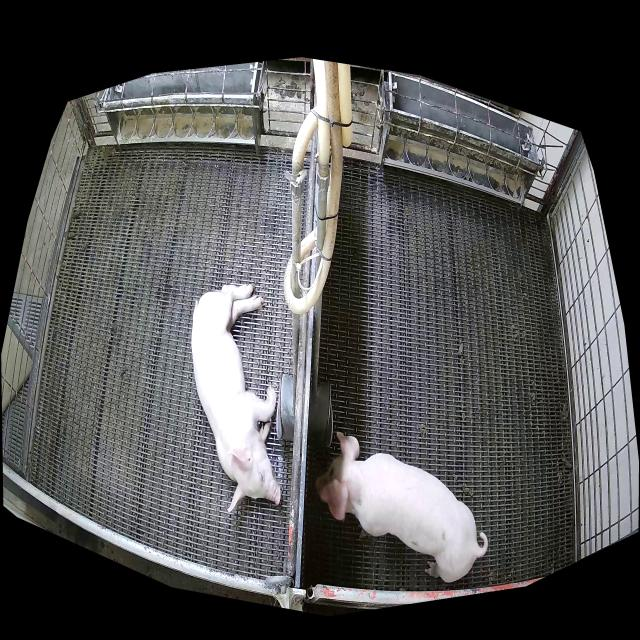pig: (316, 432, 488, 583), (192, 284, 282, 514)
